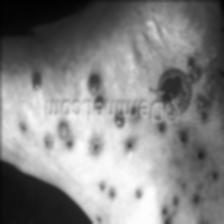Toxin: (32, 122, 224, 224), (186, 60, 224, 122), (157, 74, 189, 98), (27, 76, 44, 90), (90, 76, 100, 93)
